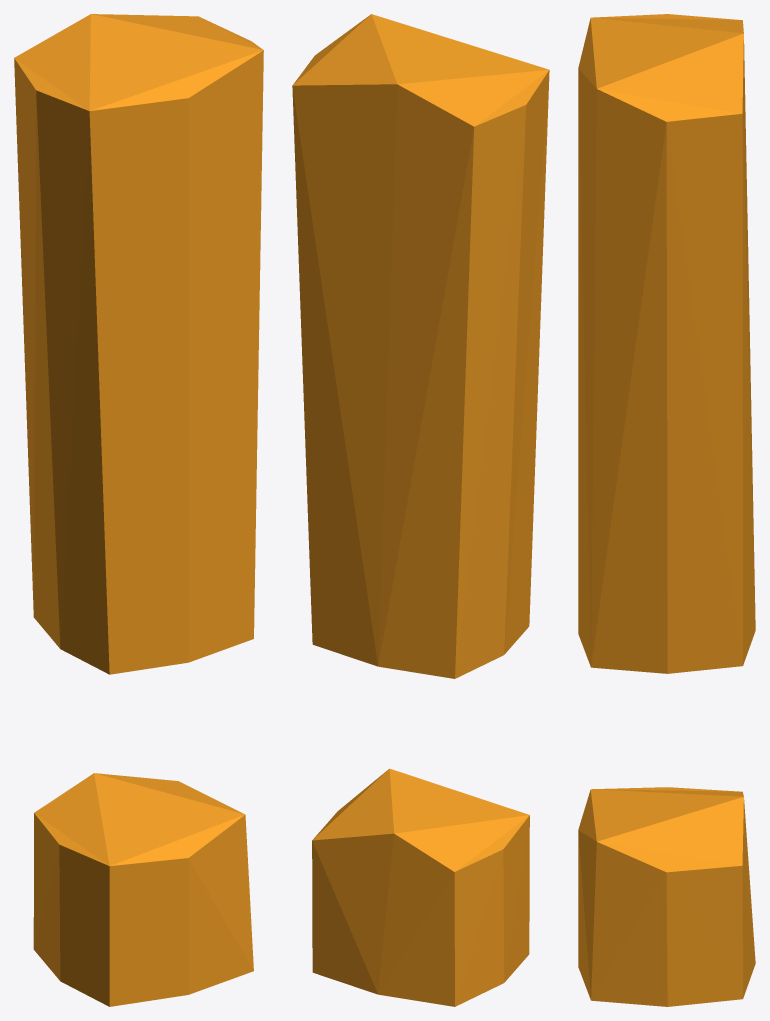
Rendered from SM_Icon_Letter_Exclamation_01.fbx.
3 views of the same model, side by side, from view 1: azimuth 30°, elevation 25°; view 2: azimuth 150°, elevation 25°; view 3: azimuth 270°, elevation 25° (orthographic).
Parts seen in each view (by area): view 1: SM_Icon_Letter_Exclamation_01; view 2: SM_Icon_Letter_Exclamation_01; view 3: SM_Icon_Letter_Exclamation_01.
Part boxes in pixels (x1=…): SM_Icon_Letter_Exclamation_01: x1=14, y1=14, x2=263, y2=1006; SM_Icon_Letter_Exclamation_01: x1=292, y1=14, x2=549, y2=1006; SM_Icon_Letter_Exclamation_01: x1=578, y1=14, x2=755, y2=1006.
Bounding box in the file's own units: 15.96 × 65.63 × 11.39.
